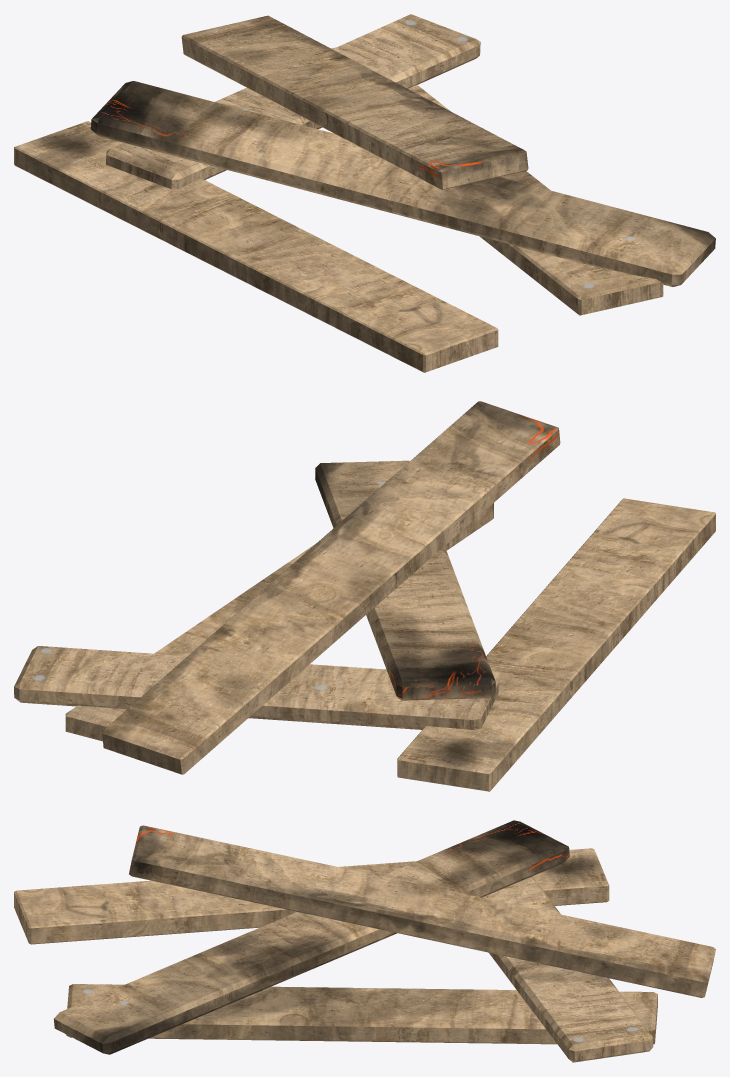
The model's file is madera render.fbx.
3 views of the same model, one above another, from view 1: azimuth 30°, elevation 25°; view 2: azimuth 150°, elevation 25°; view 3: azimuth 270°, elevation 25° (orthographic). The views are drawn at different scales.
Visible parts, largest first — view 1: Cube.005, Cube.006, Cube.008, Cube.009, Cube.007; view 2: Cube.008, Cube.006, Cube.009, Cube.005, Cube.007; view 3: Cube.008, Cube.005, Cube.007, Cube.006, Cube.009.
Boxes of the visible parts, bbox=[...] form: Cube.005: bbox=[90, 81, 715, 286]; Cube.006: bbox=[14, 121, 498, 372]; Cube.008: bbox=[181, 15, 528, 189]; Cube.009: bbox=[106, 14, 480, 189]; Cube.007: bbox=[331, 47, 663, 315]; Cube.008: bbox=[102, 401, 560, 774]; Cube.006: bbox=[397, 498, 715, 791]; Cube.009: bbox=[14, 646, 499, 729]; Cube.005: bbox=[315, 460, 495, 700]; Cube.007: bbox=[65, 503, 493, 741]; Cube.008: bbox=[129, 825, 715, 997]; Cube.005: bbox=[54, 820, 569, 1054]; Cube.007: bbox=[66, 984, 657, 1044]; Cube.006: bbox=[14, 848, 609, 944]; Cube.009: bbox=[482, 876, 653, 1062].
Size of the model in its own units: 1083 by 330 by 1573.
1 material, 1 textured.
